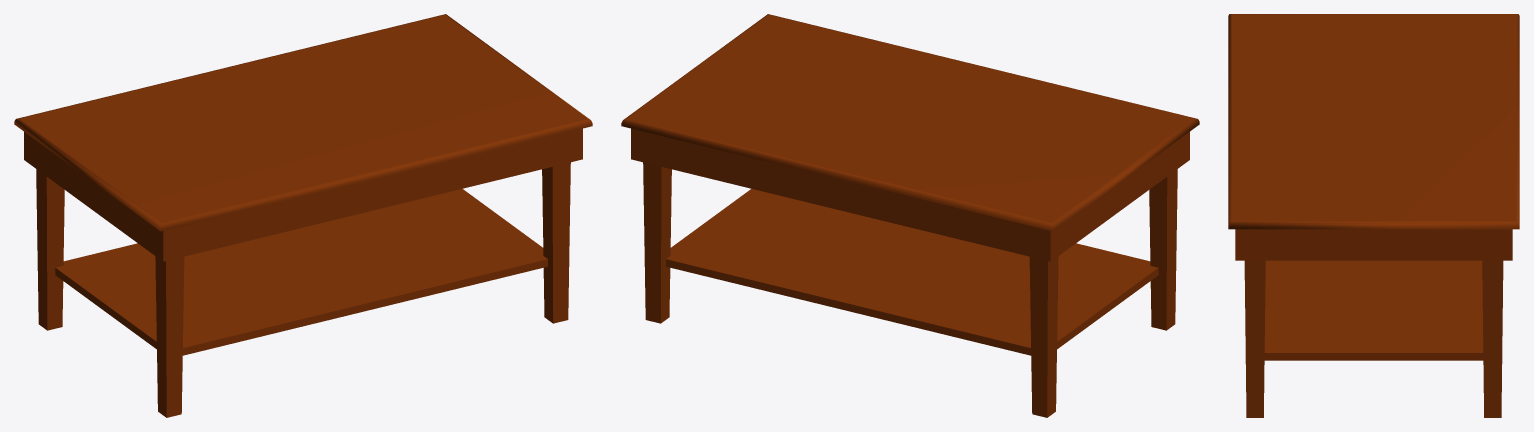
File: SM_Coffee_Table.fbx
The picture shows the model from 3 angles, left to right: view 1: azimuth 30°, elevation 25°; view 2: azimuth 150°, elevation 25°; view 3: azimuth 270°, elevation 25°; orthographic projection.
Parts seen in each view (by area): view 1: SM_Coffee_Table; view 2: SM_Coffee_Table; view 3: SM_Coffee_Table.
Part boxes in pixels (x1,y1,x2,y2): SM_Coffee_Table: (14,14,592,417); SM_Coffee_Table: (621,14,1199,417); SM_Coffee_Table: (1228,14,1519,417).
Bounding box in the file's own units: 139 × 62.73 × 81.77.
